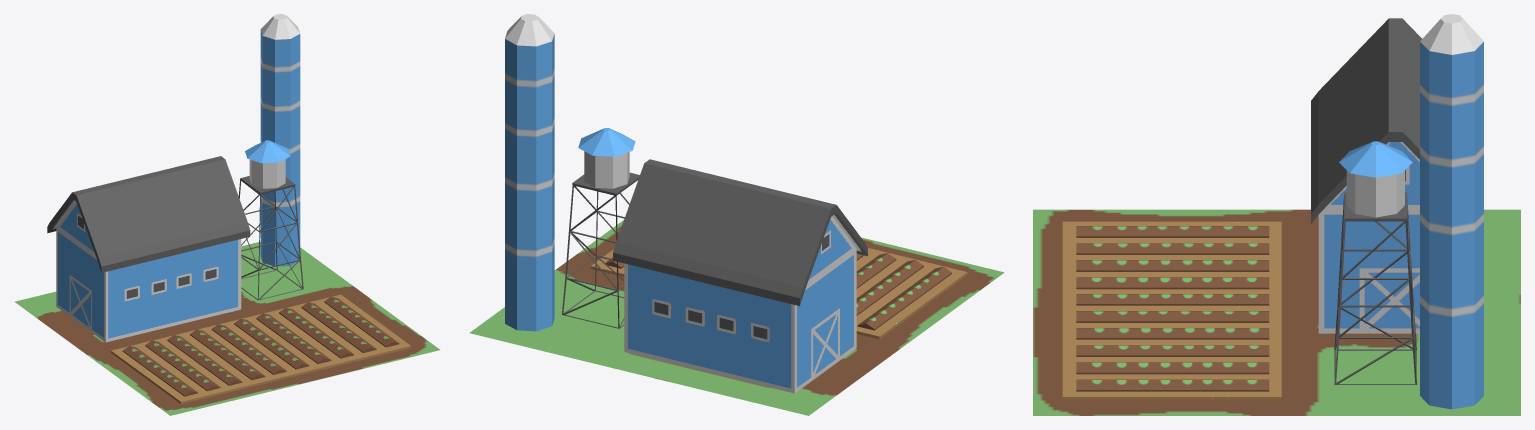
The model's file is FarmA.fbx.
3 renders of one model, left to right at view 1: azimuth 30°, elevation 25°; view 2: azimuth 150°, elevation 25°; view 3: azimuth 270°, elevation 25°, orthographic. The views are drawn at different scales.
Visible parts, largest first — view 1: Farm, Farm_Ground; view 2: Farm, Farm_Ground; view 3: Farm, Farm_Ground.
Part boxes in pixels (x1,y1,x2,y2): Farm: [47, 14, 410, 403]; Farm_Ground: [14, 241, 439, 415]; Farm: [505, 14, 967, 393]; Farm_Ground: [469, 220, 1004, 415]; Farm: [1062, 14, 1483, 409]; Farm_Ground: [1033, 209, 1520, 415].
Bounding box in the file's own units: 445 × 380 × 445.
